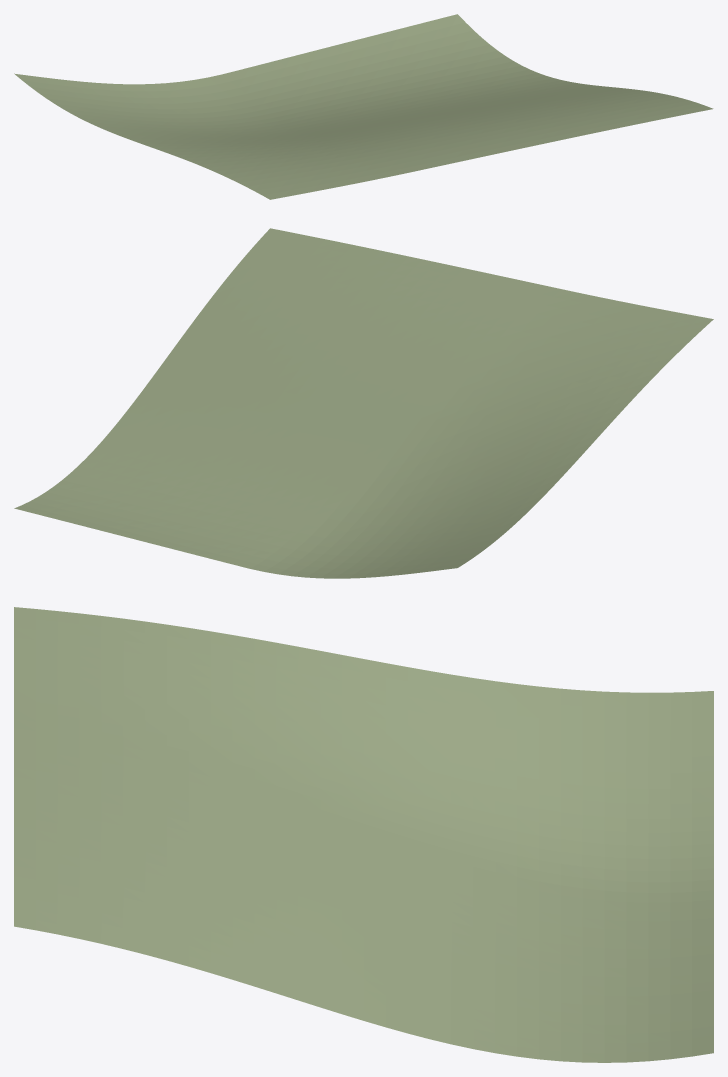
Rendered from expanse-0-5.glb.
3 views of the same model, one above another, from view 1: azimuth 30°, elevation 25°; view 2: azimuth 150°, elevation 25°; view 3: azimuth 270°, elevation 25° (orthographic). The views are drawn at different scales.
Parts seen in each view (by area): view 1: expanse-0-5; view 2: expanse-0-5; view 3: expanse-0-5.
Part boxes in pixels (x1,y1,x2,y2): expanse-0-5: (14,14,713,199); expanse-0-5: (14,228,713,578); expanse-0-5: (14,607,713,1062).
Size of the model in its own units: 256 by 64.6 by 256.
